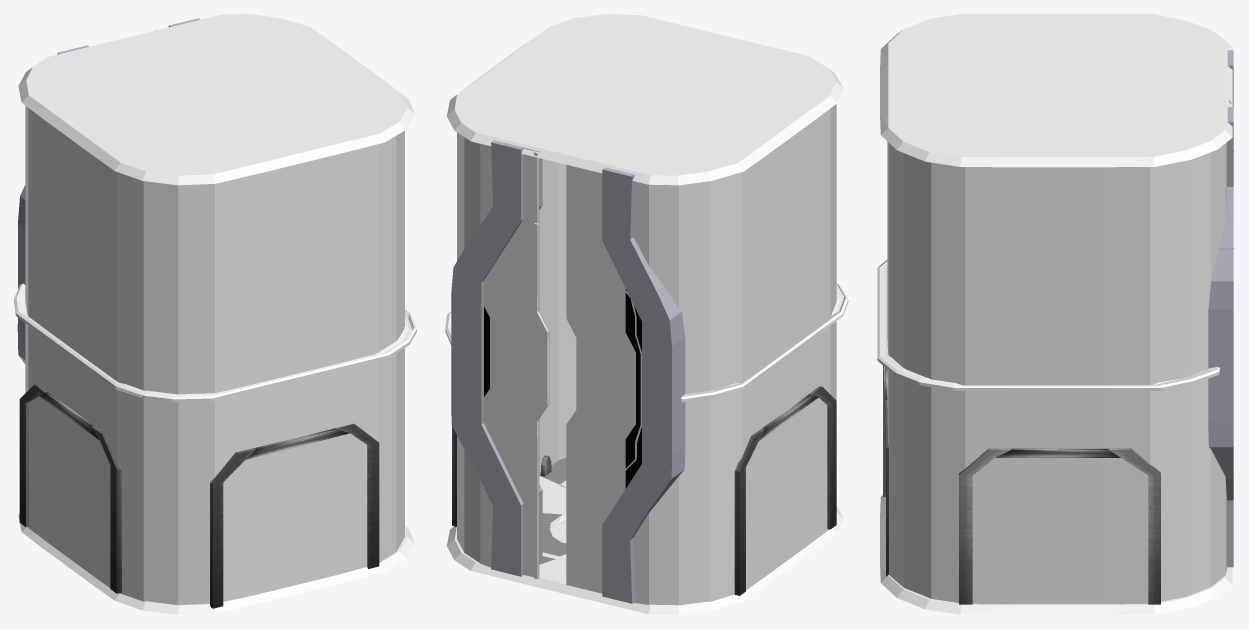
The model's file is winda.fbx.
3 views of the same model, side by side, from view 1: azimuth 30°, elevation 25°; view 2: azimuth 150°, elevation 25°; view 3: azimuth 270°, elevation 25° (orthographic). The views are drawn at different scales.
Visible parts, largest first — view 1: pCube16; view 2: pCube16; view 3: pCube16.
Boxes of the visible parts, x1,y1,x2,y2 form: pCube16: (14,14,416,614); pCube16: (445,14,848,614); pCube16: (877,14,1234,614).
Bounding box in the file's own units: 6.93 × 9.7 × 6.91.
Materials: 7 (1 with a texture image).
